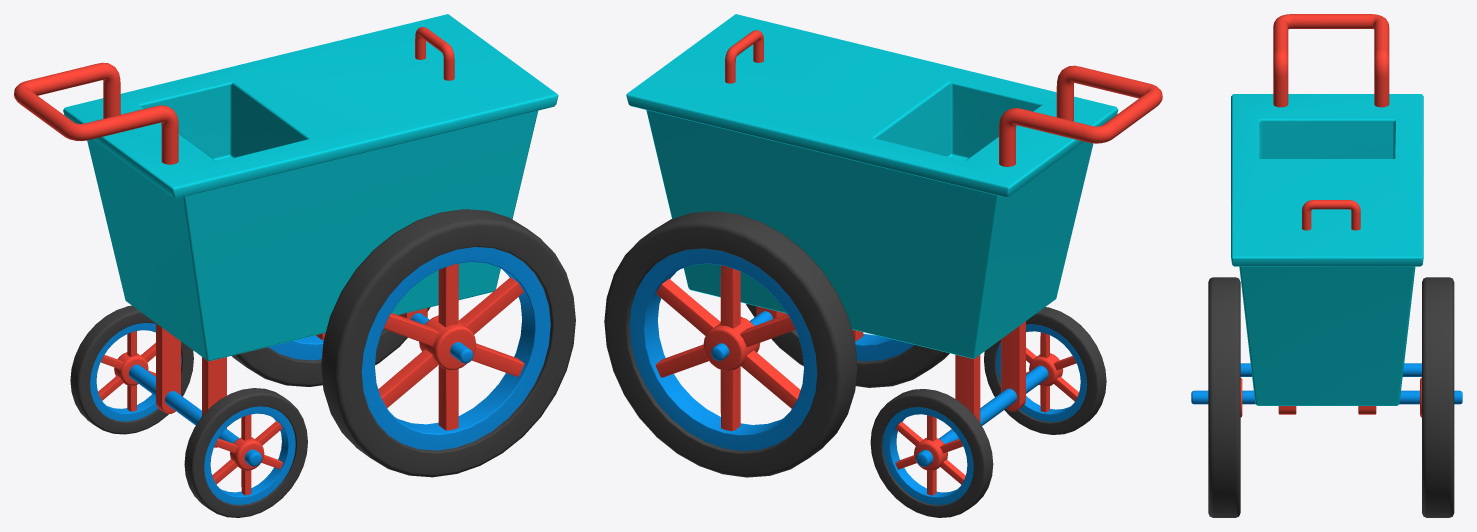
The model's file is Public_14_Circus_cart_1.glb.
3 views of the same model, side by side, from view 1: azimuth 30°, elevation 25°; view 2: azimuth 150°, elevation 25°; view 3: azimuth 270°, elevation 25° (orthographic). The views are drawn at different scales.
Visible parts, largest first — view 1: Public_14_Circus_cart_1; view 2: Public_14_Circus_cart_1; view 3: Public_14_Circus_cart_1.
Part boxes in pixels (x1=…): Public_14_Circus_cart_1: x1=14, y1=14, x2=575, y2=517; Public_14_Circus_cart_1: x1=604, y1=14, x2=1162, y2=517; Public_14_Circus_cart_1: x1=1191, y1=14, x2=1462, y2=517.
Bounding box in the file's own units: 1.88 × 1.55 × 1.09.
Materials: 1 (1 with a texture image).
